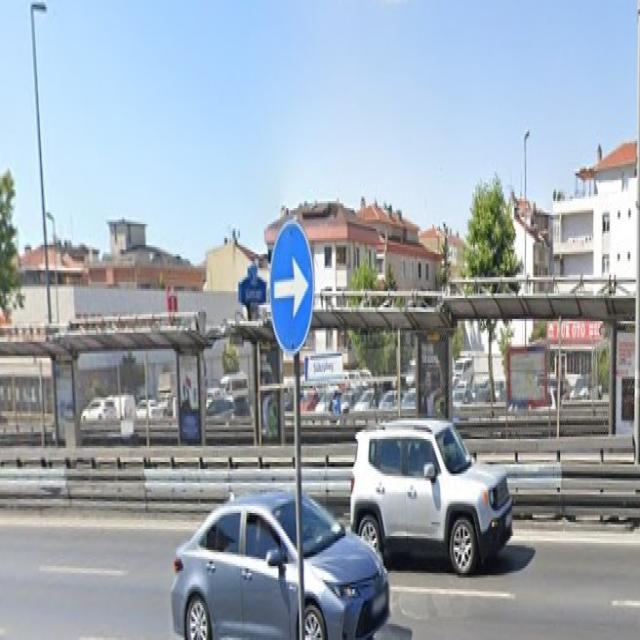Turn Right: (266, 213, 318, 363)
